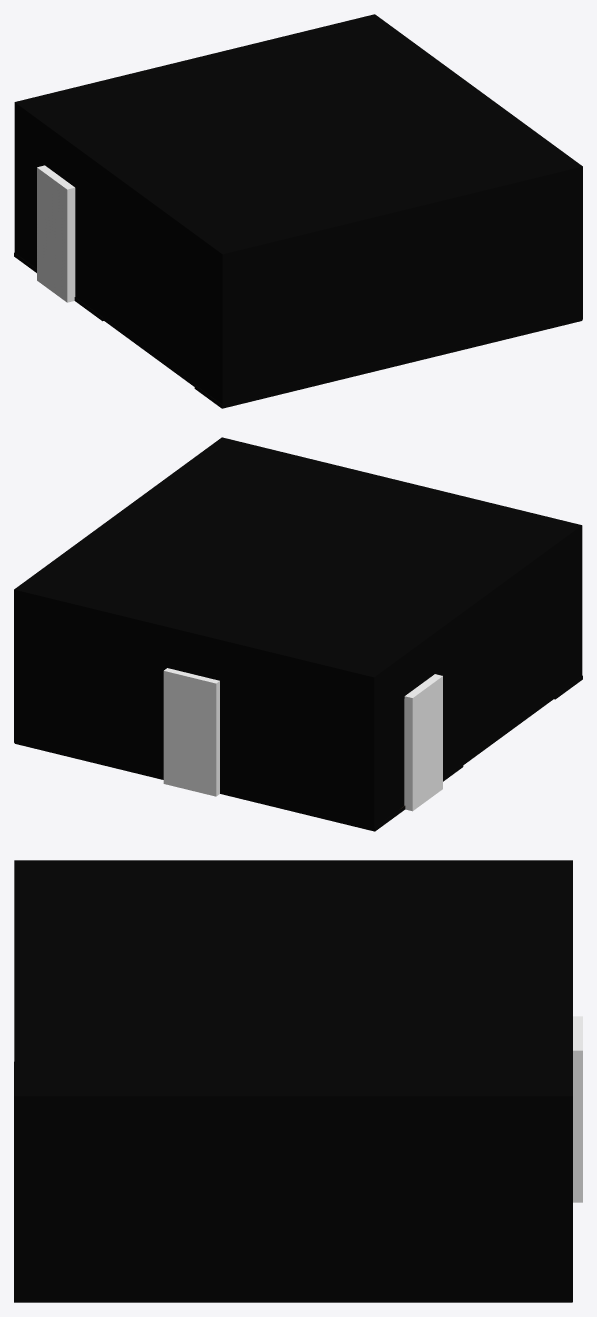
Rendered from room_5wcorridor_engine.obj.
3 renders of one model, top to bottom at view 1: azimuth 30°, elevation 25°; view 2: azimuth 150°, elevation 25°; view 3: azimuth 270°, elevation 25°, orthographic. The views are drawn at different scales.
Visible parts, largest first — view 1: Rectangle037, celling_5W, PH_DOOR_5W_lifesongL, Rectangle038; view 2: Rectangle037, celling_5W, PH_DOOR_5W_billardL, PH_DOOR_5W_lifesongL, Rectangle038; view 3: celling_5W, Rectangle037, PH_DOOR_5W_billardL, Rectangle038.
Part boxes in pixels (x1=…): Rectangle037: x1=14, y1=105, x2=582, y2=404; celling_5W: x1=14, y1=14, x2=582, y2=257; PH_DOOR_5W_lifesongL: x1=37, y1=165, x2=75, y2=302; Rectangle038: x1=14, y1=252, x2=582, y2=408; Rectangle037: x1=14, y1=528, x2=582, y2=830; celling_5W: x1=14, y1=437, x2=582, y2=680; PH_DOOR_5W_billardL: x1=163, y1=668, x2=219, y2=796; PH_DOOR_5W_lifesongL: x1=404, y1=674, x2=442, y2=811; Rectangle038: x1=14, y1=675, x2=582, y2=831; celling_5W: x1=14, y1=860, x2=572, y2=1101; Rectangle037: x1=14, y1=1099, x2=572, y2=1301; PH_DOOR_5W_billardL: x1=573, y1=1016, x2=582, y2=1202; Rectangle038: x1=14, y1=1062, x2=572, y2=1302.
Bounding box in the file's own units: 102 × 41.87 × 102.
